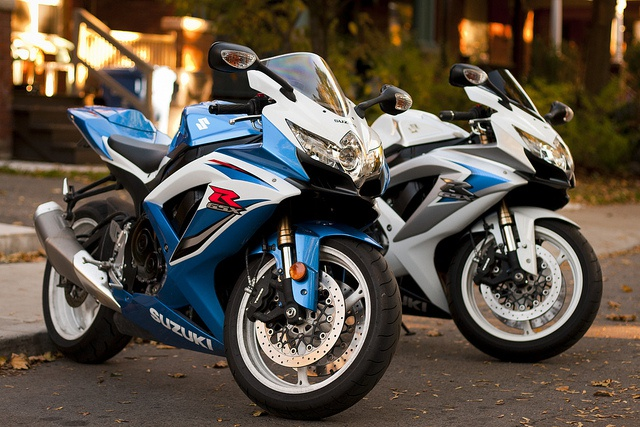non-vehicle: (32, 41, 413, 420), (370, 63, 601, 362)
